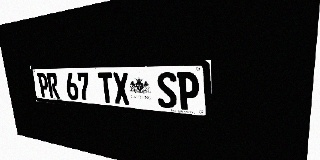6: (64, 72, 79, 100)
7: (76, 72, 92, 101)
P: (177, 72, 199, 111), (37, 73, 50, 98)
R: (46, 73, 60, 99)
S: (156, 72, 177, 109)
T: (98, 72, 115, 103)
X: (112, 72, 130, 105)
